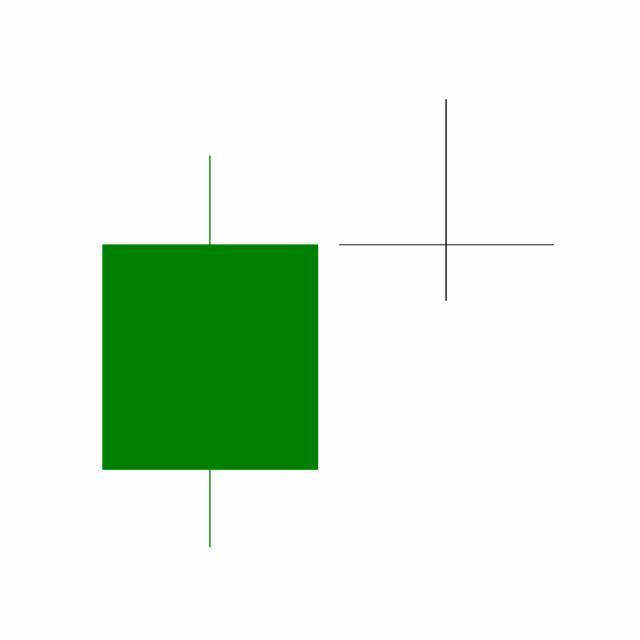Spinning Top: (328, 97, 566, 304)
